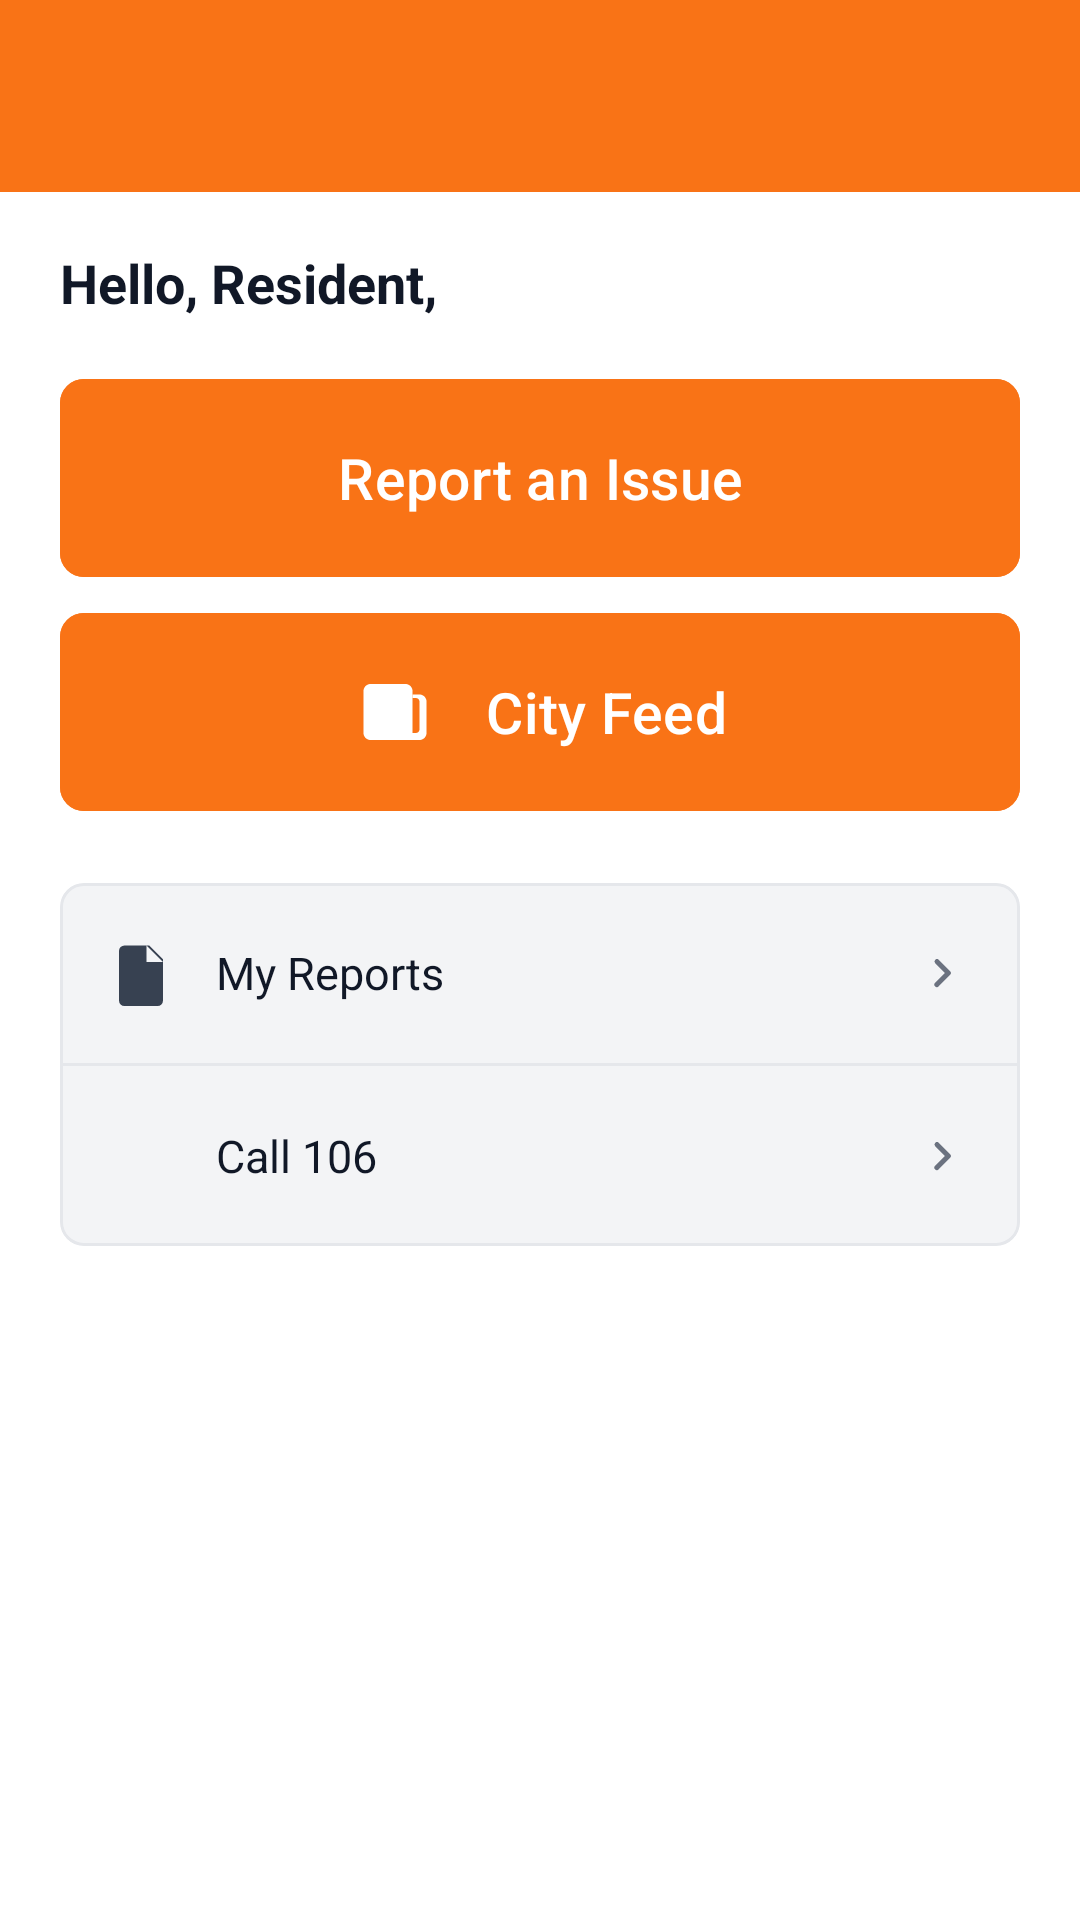

Point at icon controls on the screen. Image size 1080 × 1920, points as (x=x, y=y).
chevron right home: (x=942, y=973), (x=942, y=1156)
